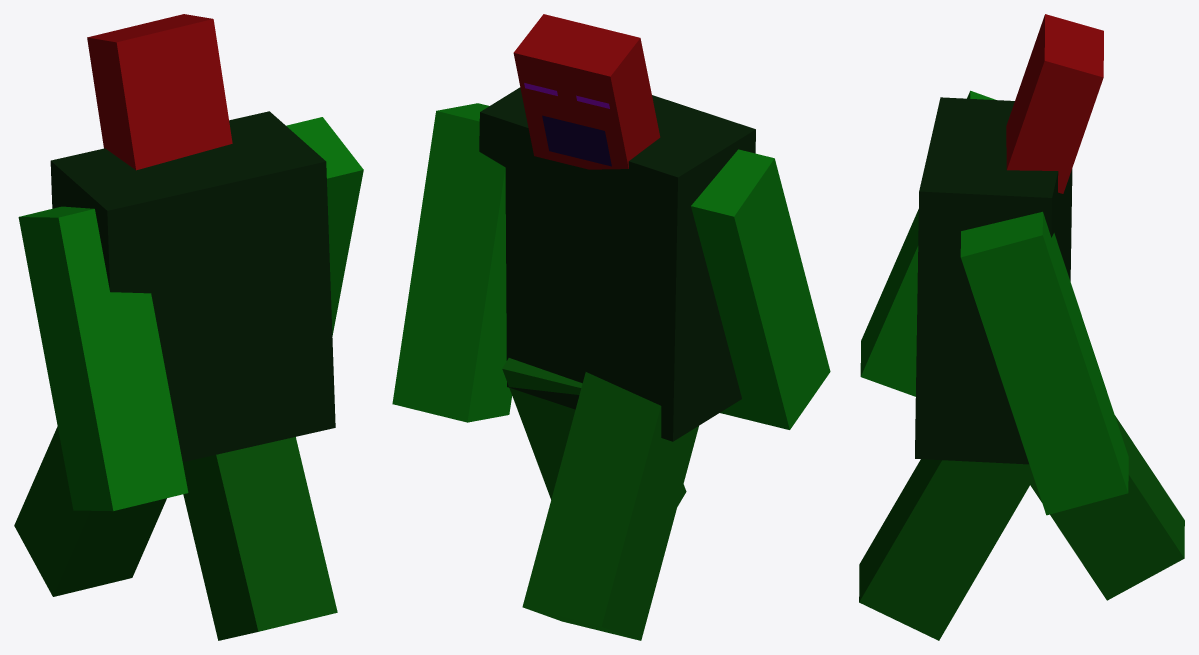
The model's file is walk_000009.obj.
3 renders of one model, left to right at view 1: azimuth 30°, elevation 25°; view 2: azimuth 150°, elevation 25°; view 3: azimuth 270°, elevation 25°, orthographic.
Visible parts, largest first — view 1: Cube, leg.003_Cube.002, leg.001_Cube.007, Cube.001_Cube.003, leg_Cube.001, leg.002_Cube.006; view 2: Cube, leg_Cube.001, leg.002_Cube.006, leg.003_Cube.002, Cube.001_Cube.003, leg.001_Cube.007, Plane.002; view 3: Cube, leg.002_Cube.006, leg.001_Cube.007, Cube.001_Cube.003, leg_Cube.001, leg.003_Cube.002.
Part boxes in pixels (x1,y1,x2,y2): Cube: (50, 111, 335, 462); leg.003_Cube.002: (18, 206, 188, 511); leg.001_Cube.007: (183, 437, 337, 640); Cube.001_Cube.003: (87, 14, 232, 170); leg_Cube.001: (14, 426, 166, 596); leg.002_Cube.006: (286, 117, 363, 336); Cube: (479, 87, 755, 441); leg_Cube.001: (522, 372, 698, 640); leg.002_Cube.006: (392, 103, 512, 422); leg.003_Cube.002: (691, 149, 830, 429); Cube.001_Cube.003: (513, 14, 660, 169); leg.001_Cube.007: (502, 358, 686, 506); Plane.002: (542, 115, 611, 166); Cube: (915, 97, 1072, 464); leg.002_Cube.006: (960, 211, 1128, 515); leg.001_Cube.007: (859, 459, 1033, 640); Cube.001_Cube.003: (1006, 14, 1103, 193); leg_Cube.001: (1030, 415, 1184, 600); leg.003_Cube.002: (860, 90, 995, 396).
Bounding box in the file's own units: 3.48 × 6.3 × 3.29.
